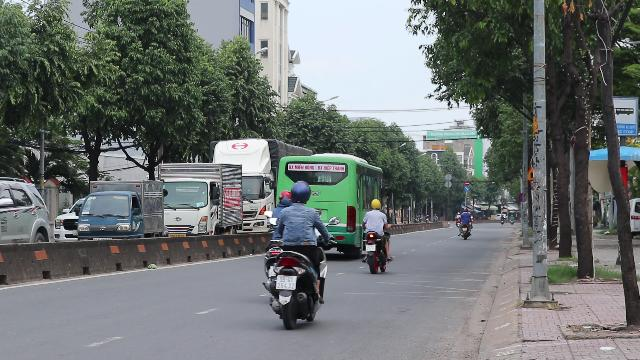helmet: (289, 180, 311, 204), (278, 190, 290, 204)
licenseplate: (276, 276, 296, 288)
motorcyclist: (260, 180, 332, 329)
